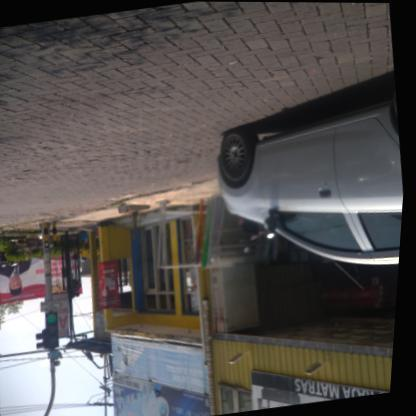green: (45, 310, 67, 348)
